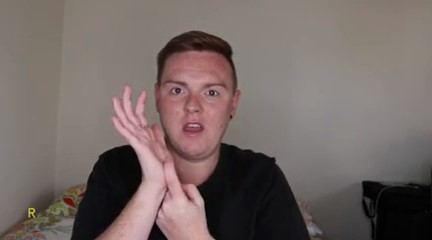R: (106, 83, 209, 240)
